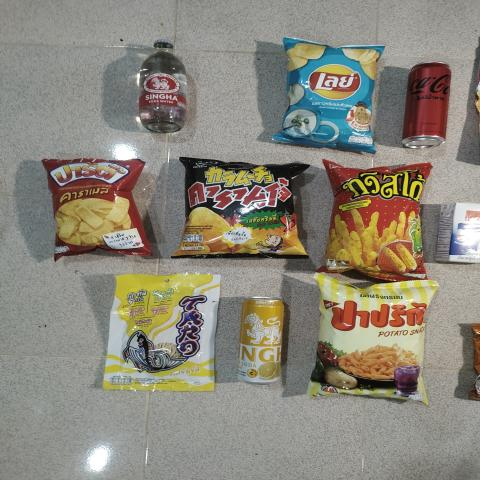coke_red: (408, 56, 456, 146)
karamujo: (182, 158, 307, 253)
lay_blue: (288, 40, 373, 150)
paprika: (320, 280, 430, 400)
party_red: (51, 156, 143, 248)
singha_soda: (132, 36, 186, 126)
singha_yellow: (241, 291, 288, 388)
taro_yellow: (114, 275, 219, 391)
twisco: (327, 165, 425, 279)
